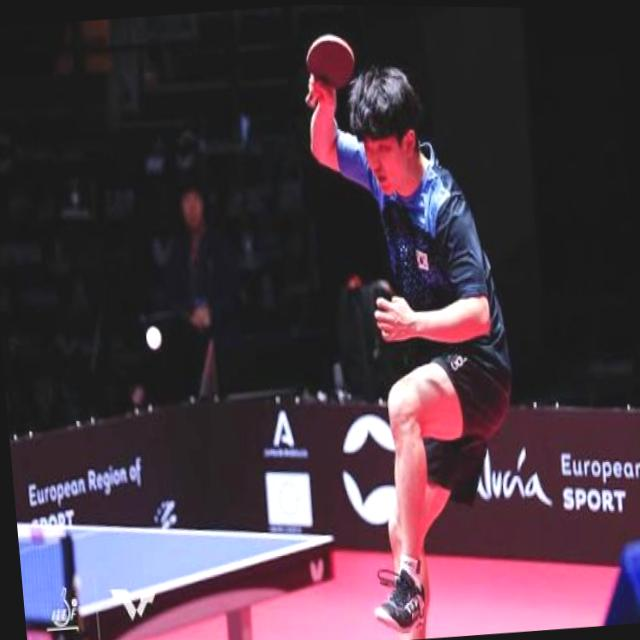TT Racket: (296, 23, 363, 103)
TT Table: (18, 523, 325, 640)
